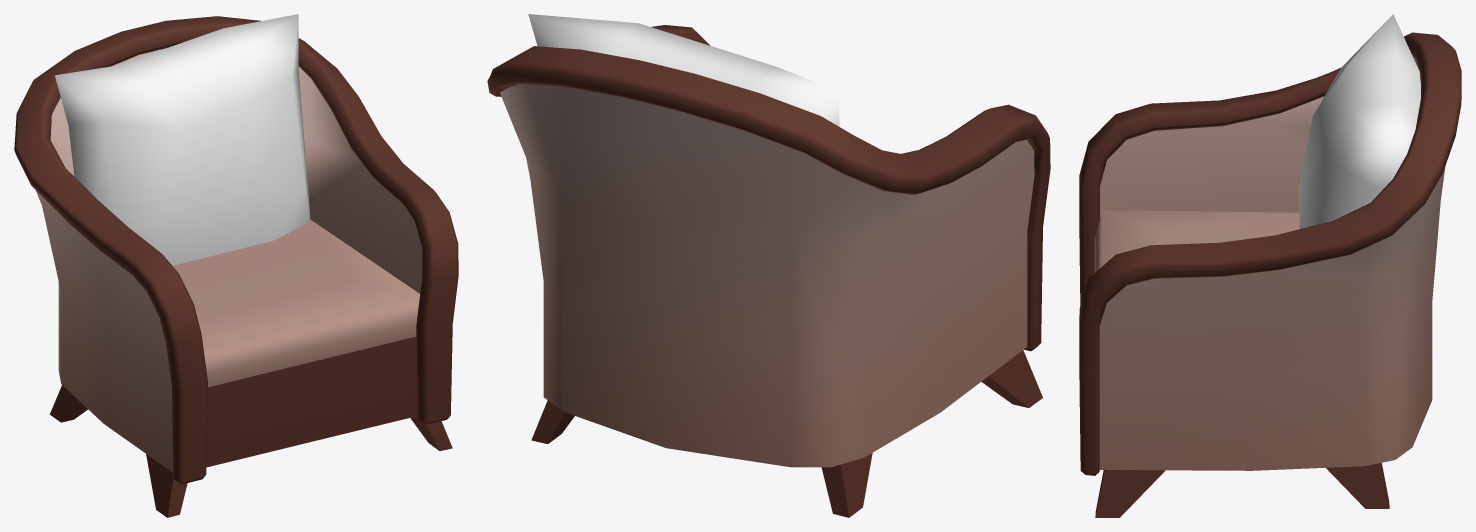
The model's file is Chair_01.fbx.
The picture shows the model from 3 angles, left to right: view 1: azimuth 30°, elevation 25°; view 2: azimuth 150°, elevation 25°; view 3: azimuth 270°, elevation 25°; orthographic projection. The views are drawn at different scales.
Parts seen in each view (by area): view 1: Chair_01; view 2: Chair_01; view 3: Chair_01.
Part boxes in pixels (left/top/right/bottom): Chair_01: left=14, top=14, right=458, bottom=517; Chair_01: left=487, top=14, right=1050, bottom=517; Chair_01: left=1079, top=14, right=1461, bottom=517.
Size of the model in its own units: 93.33 by 91.89 by 86.36.
